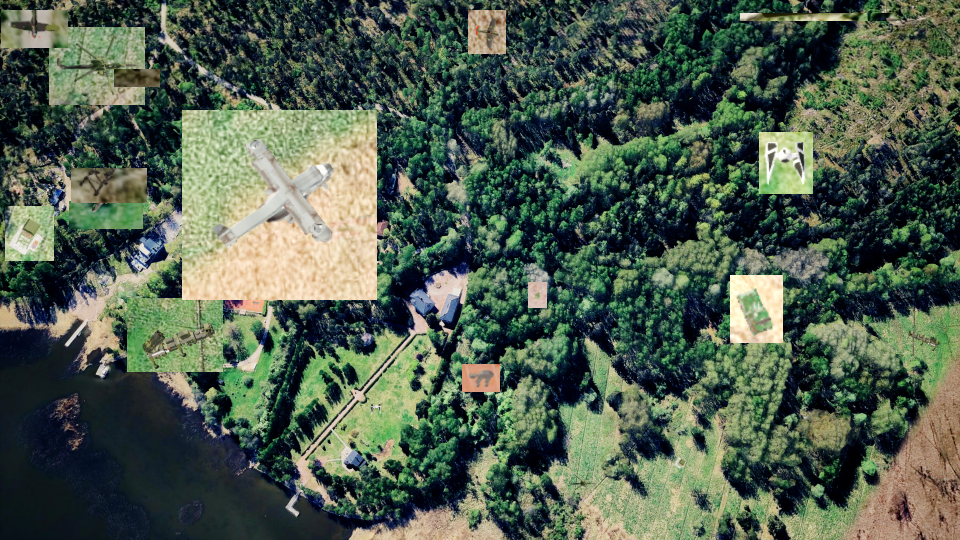condor: (182, 110, 377, 300)
hangar: (740, 13, 897, 21)
helicopter: (49, 27, 145, 105)
jammer: (730, 275, 783, 343)
jet_plane: (69, 201, 143, 229)
large_launcher: (127, 298, 223, 372)
large_tower: (71, 168, 147, 203)
medium_launcher: (114, 69, 160, 87)
medium_plane: (1, 10, 68, 48)
mine_roller: (310, 226, 370, 293)
small_launcher: (528, 282, 547, 308)
small_plane: (468, 10, 506, 54)
small_tower: (5, 206, 54, 261)
spacecraft: (759, 132, 813, 194)
ta-ta: (462, 364, 500, 392)
tank: (49, 28, 121, 50)
